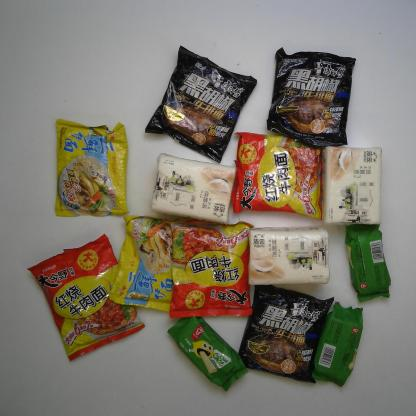Dessert: (167, 315, 249, 393), (312, 300, 366, 388), (344, 224, 392, 302)
Instant Noodles: (26, 233, 146, 362), (144, 43, 258, 164), (238, 283, 336, 385), (266, 47, 358, 146), (167, 219, 255, 320), (108, 214, 193, 314), (231, 129, 324, 220), (52, 118, 131, 219)
Tissue: (150, 152, 237, 226), (247, 224, 332, 286), (322, 146, 384, 226)
